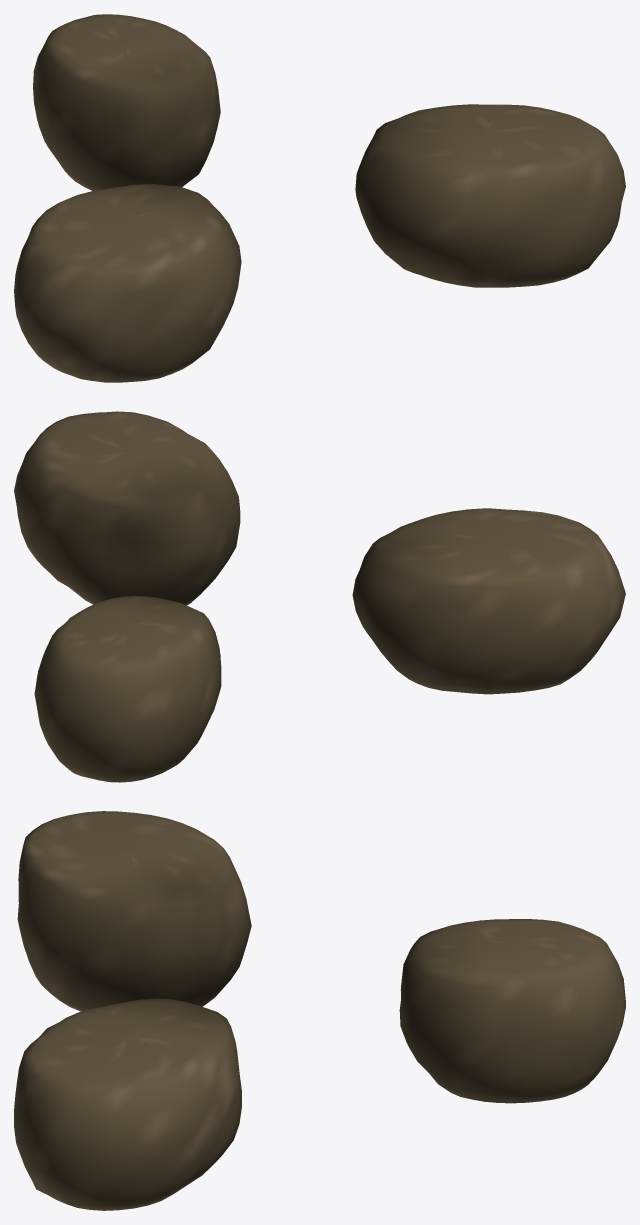
Rendered from hearth-stones.glb.
The picture shows the model from 3 angles, top to bottom: view 1: azimuth 30°, elevation 25°; view 2: azimuth 150°, elevation 25°; view 3: azimuth 270°, elevation 25°; orthographic projection. The views are drawn at different scales.
Visible parts, largest first — view 1: hearth-stones; view 2: hearth-stones; view 3: hearth-stones.
Part boxes in pixels (x1,y1,x2,y2): hearth-stones: (14,14,625,382); hearth-stones: (14,411,625,782); hearth-stones: (14,811,625,1210).
Size of the model in its own units: 0.405 by 0.0887 by 0.3483.
